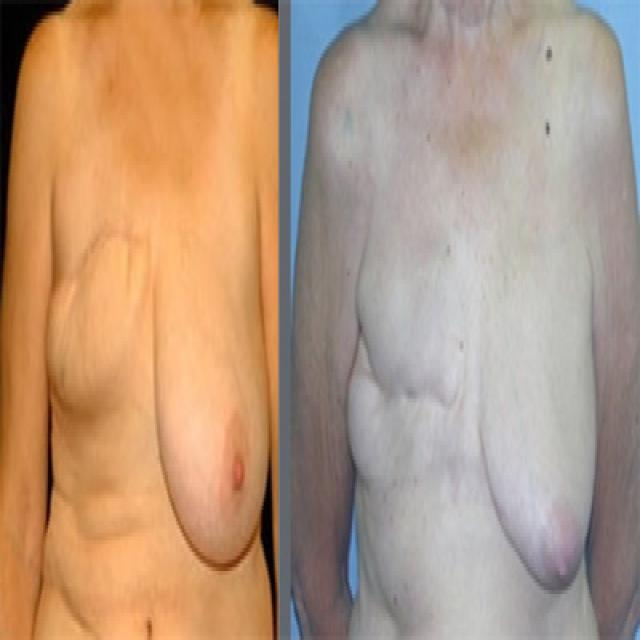Seno herido: (342, 230, 472, 536), (44, 202, 153, 454)
Seno ileso: (475, 228, 602, 618), (155, 212, 272, 594)
